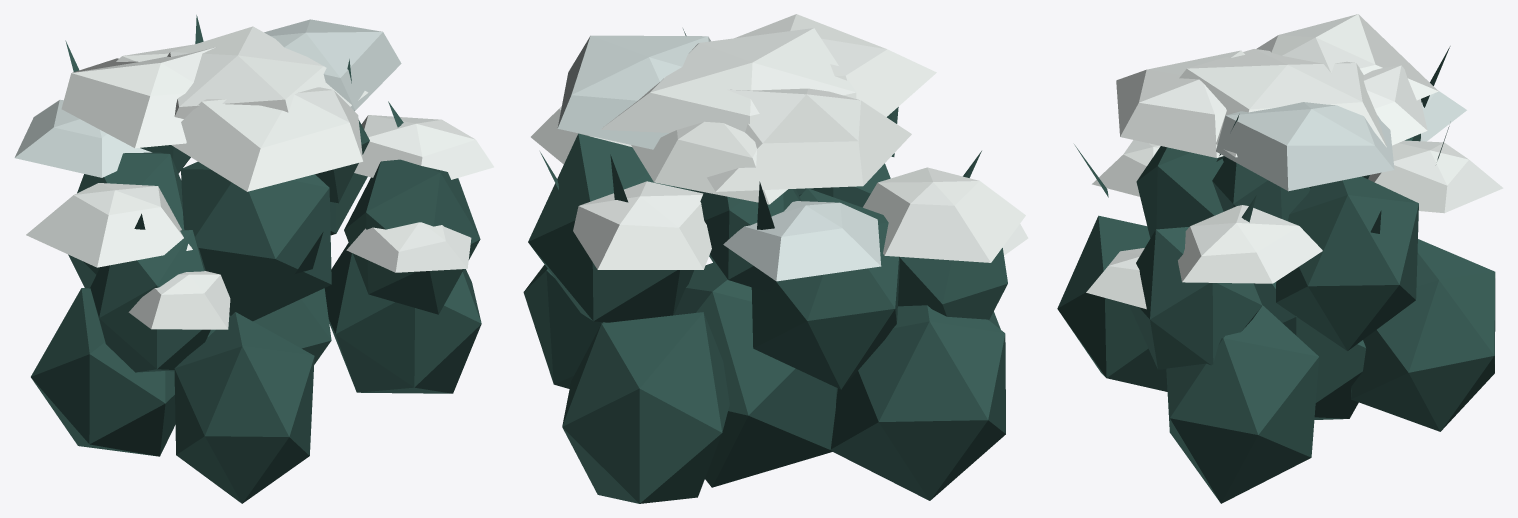
The model's file is snow_bush.glb.
3 views of the same model, side by side, from view 1: azimuth 30°, elevation 25°; view 2: azimuth 150°, elevation 25°; view 3: azimuth 270°, elevation 25° (orthographic). The views are drawn at different scales.
Parts seen in each view (by area): view 1: snow_bush; view 2: snow_bush; view 3: snow_bush.
Boxes of the visible parts, <box> form: snow_bush: <box>14,15,493,503</box>; snow_bush: <box>523,14,1028,503</box>; snow_bush: <box>1057,14,1503,503</box>.
Bounding box in the file's own units: 1.12 × 0.9 × 1.02.
